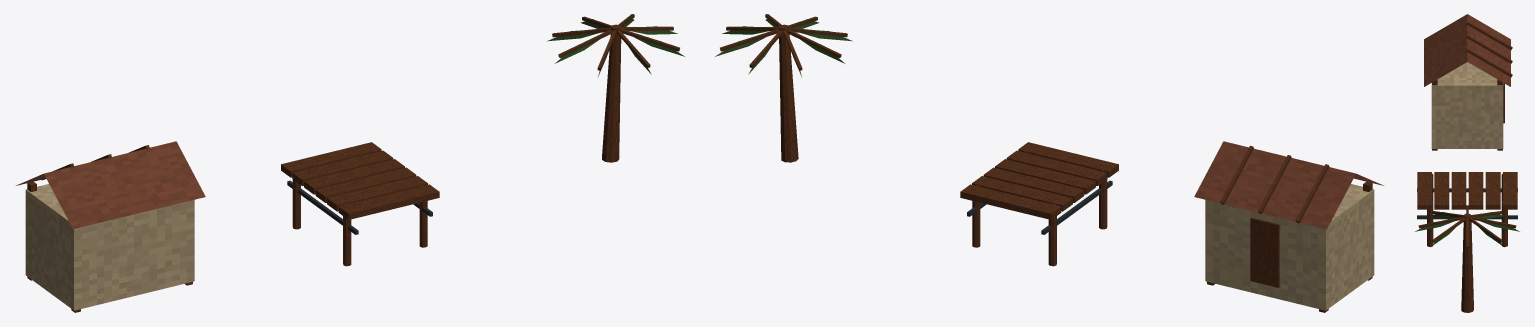
The model's file is KIT_miras_cove.gltf.
3 renders of one model, left to right at view 1: azimuth 30°, elevation 25°; view 2: azimuth 150°, elevation 25°; view 3: azimuth 270°, elevation 25°, orthographic. The views are drawn at different scales.
Parts seen in each view (by area): view 1: 01_hut, 02_pier, 03_palm; view 2: 01_hut, 02_pier, 03_palm; view 3: 01_hut, 02_pier, 03_palm.
Boxes of the visible parts, x1,y1,x2,y2 form: 01_hut: (16,141,205,312); 02_pier: (281,142,439,266); 03_palm: (547,14,684,162); 01_hut: (1194,141,1383,312); 02_pier: (960,142,1118,266); 03_palm: (715,14,852,162); 01_hut: (1424,14,1512,150); 02_pier: (1417,172,1517,246); 03_palm: (1415,205,1519,312).
Size of the model in its own units: 13.96 by 3.1 by 2.74.
Materials: 5 (5 with a texture image).
